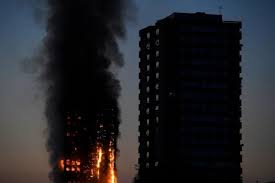fire: (64, 127, 119, 183)
